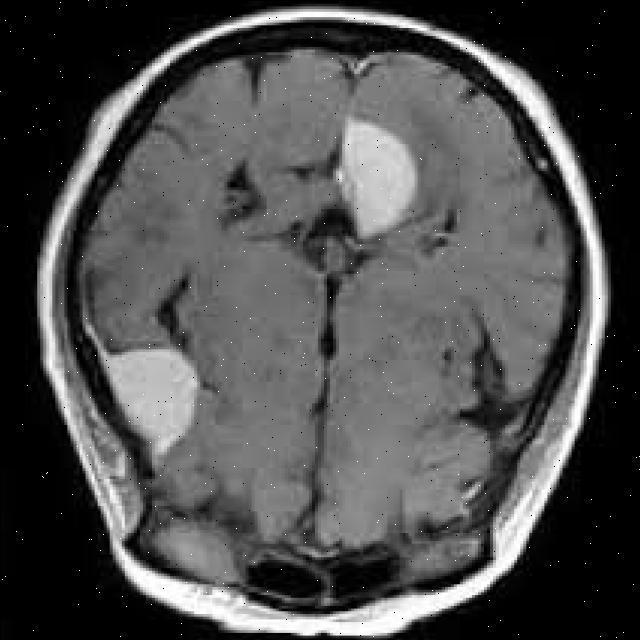Meningioma: (85, 318, 200, 460), (333, 119, 418, 239)
